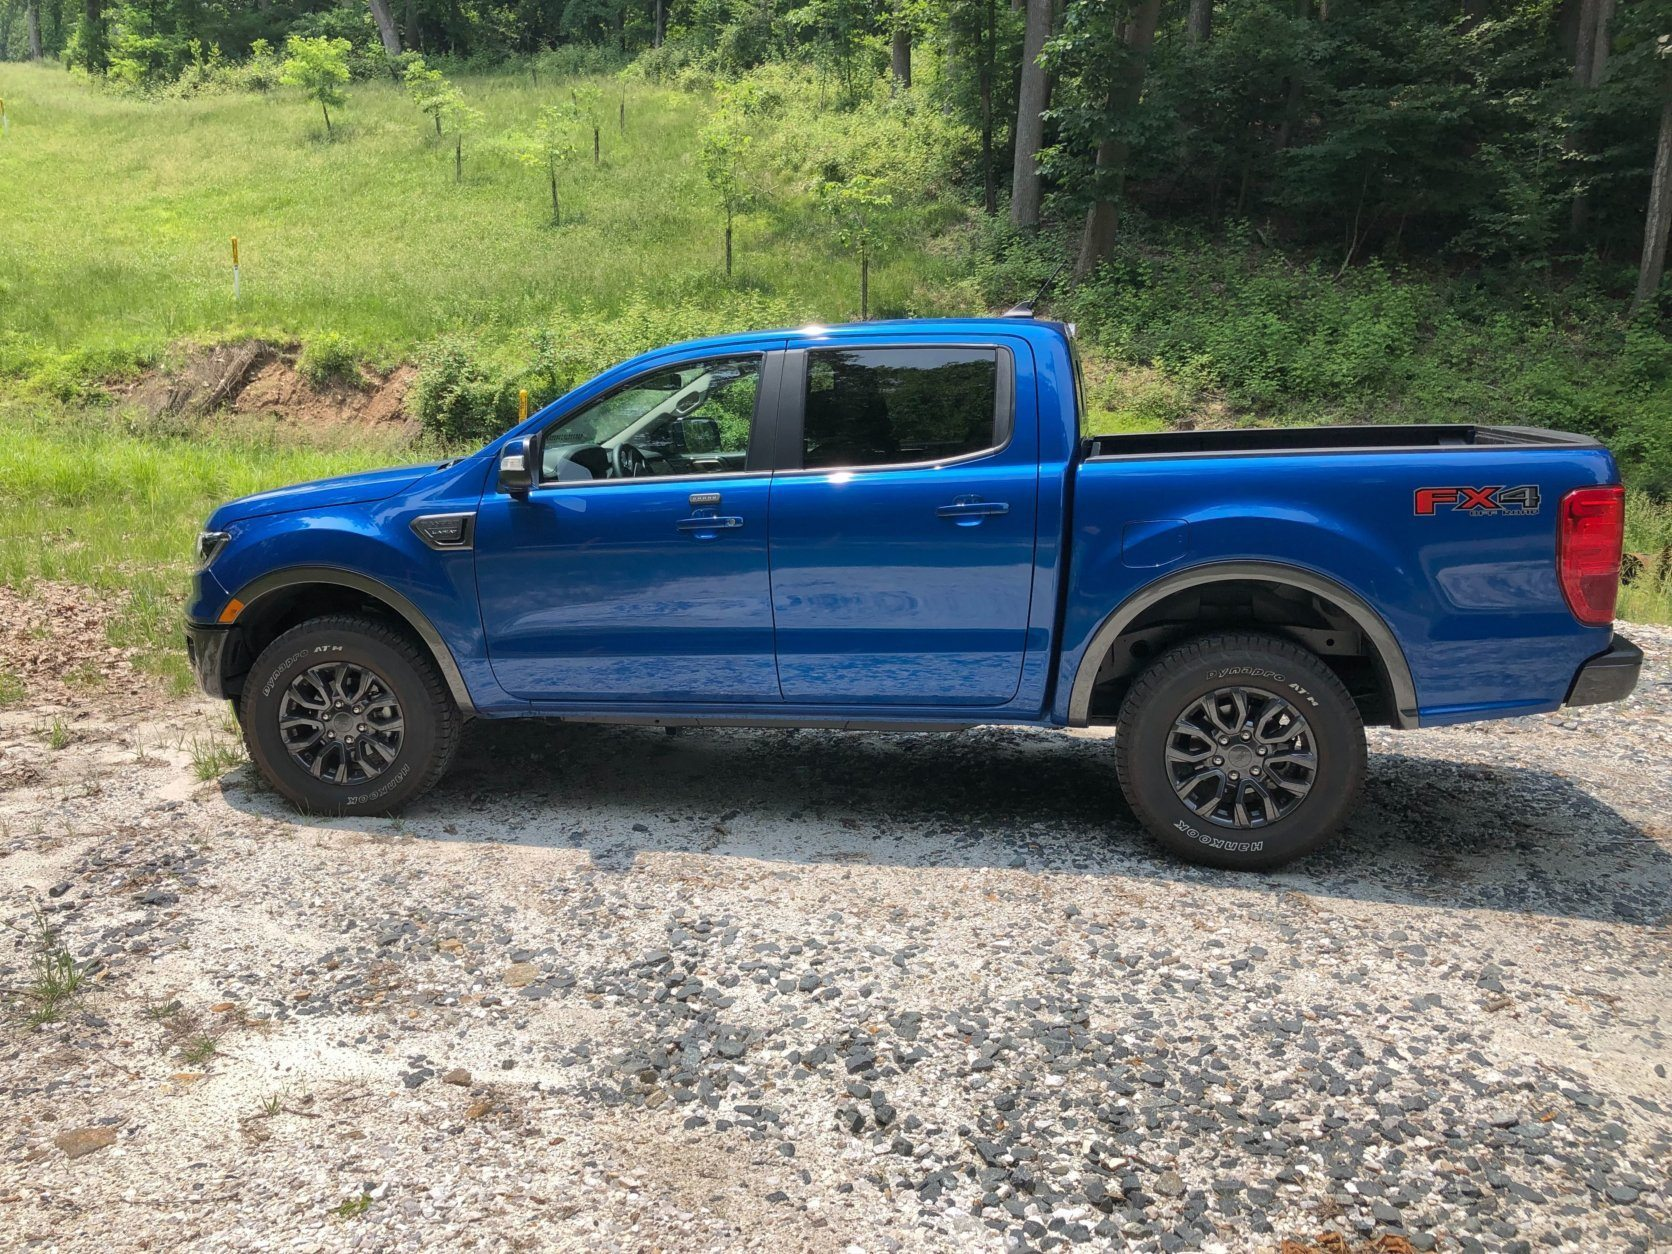car: (172, 303, 1650, 876)
